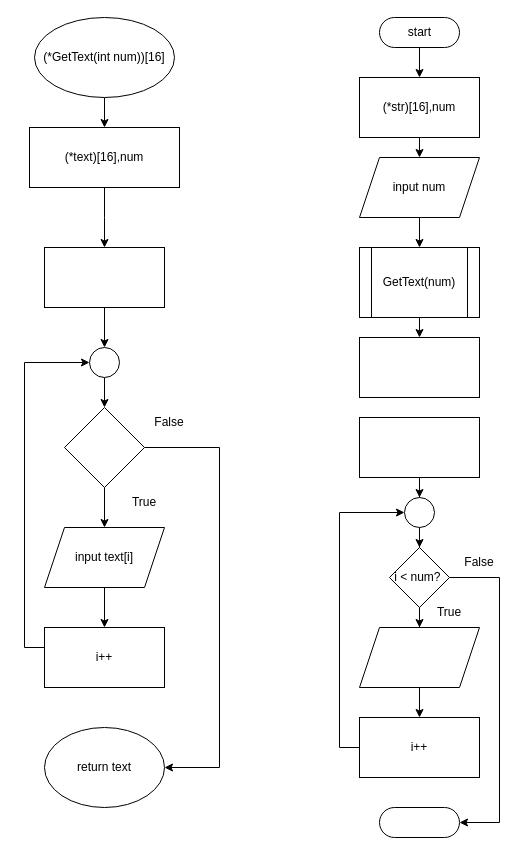
Image size: 527x855. Some labels were removed from this diagram. Each missing label, with the centre of its shape:
"End" belongs at [419,822].
"i<num?" belongs at [104,447].
"i=0" belongs at [104,277].
"output str[i]" belongs at [419,657].
"output text" belongs at [419,367].
"str = GetText(num)" belongs at [419,447].
